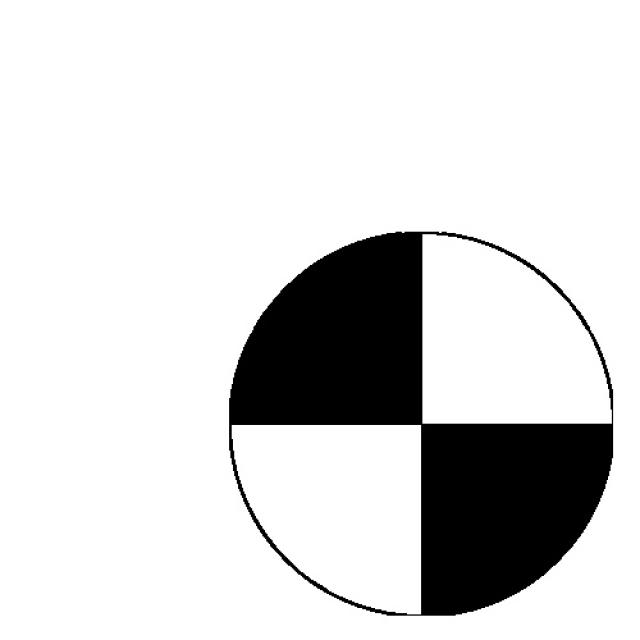Marcadores: (231, 230, 613, 616)
